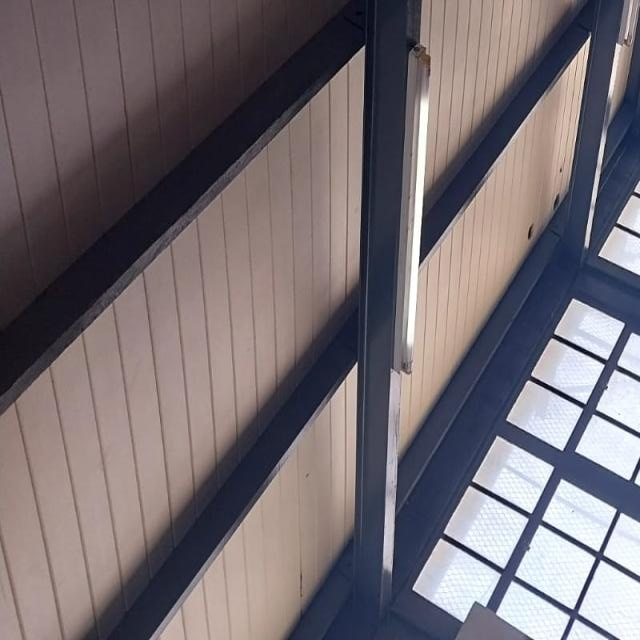fluorescent tube: (378, 22, 458, 422), (613, 0, 640, 67)
